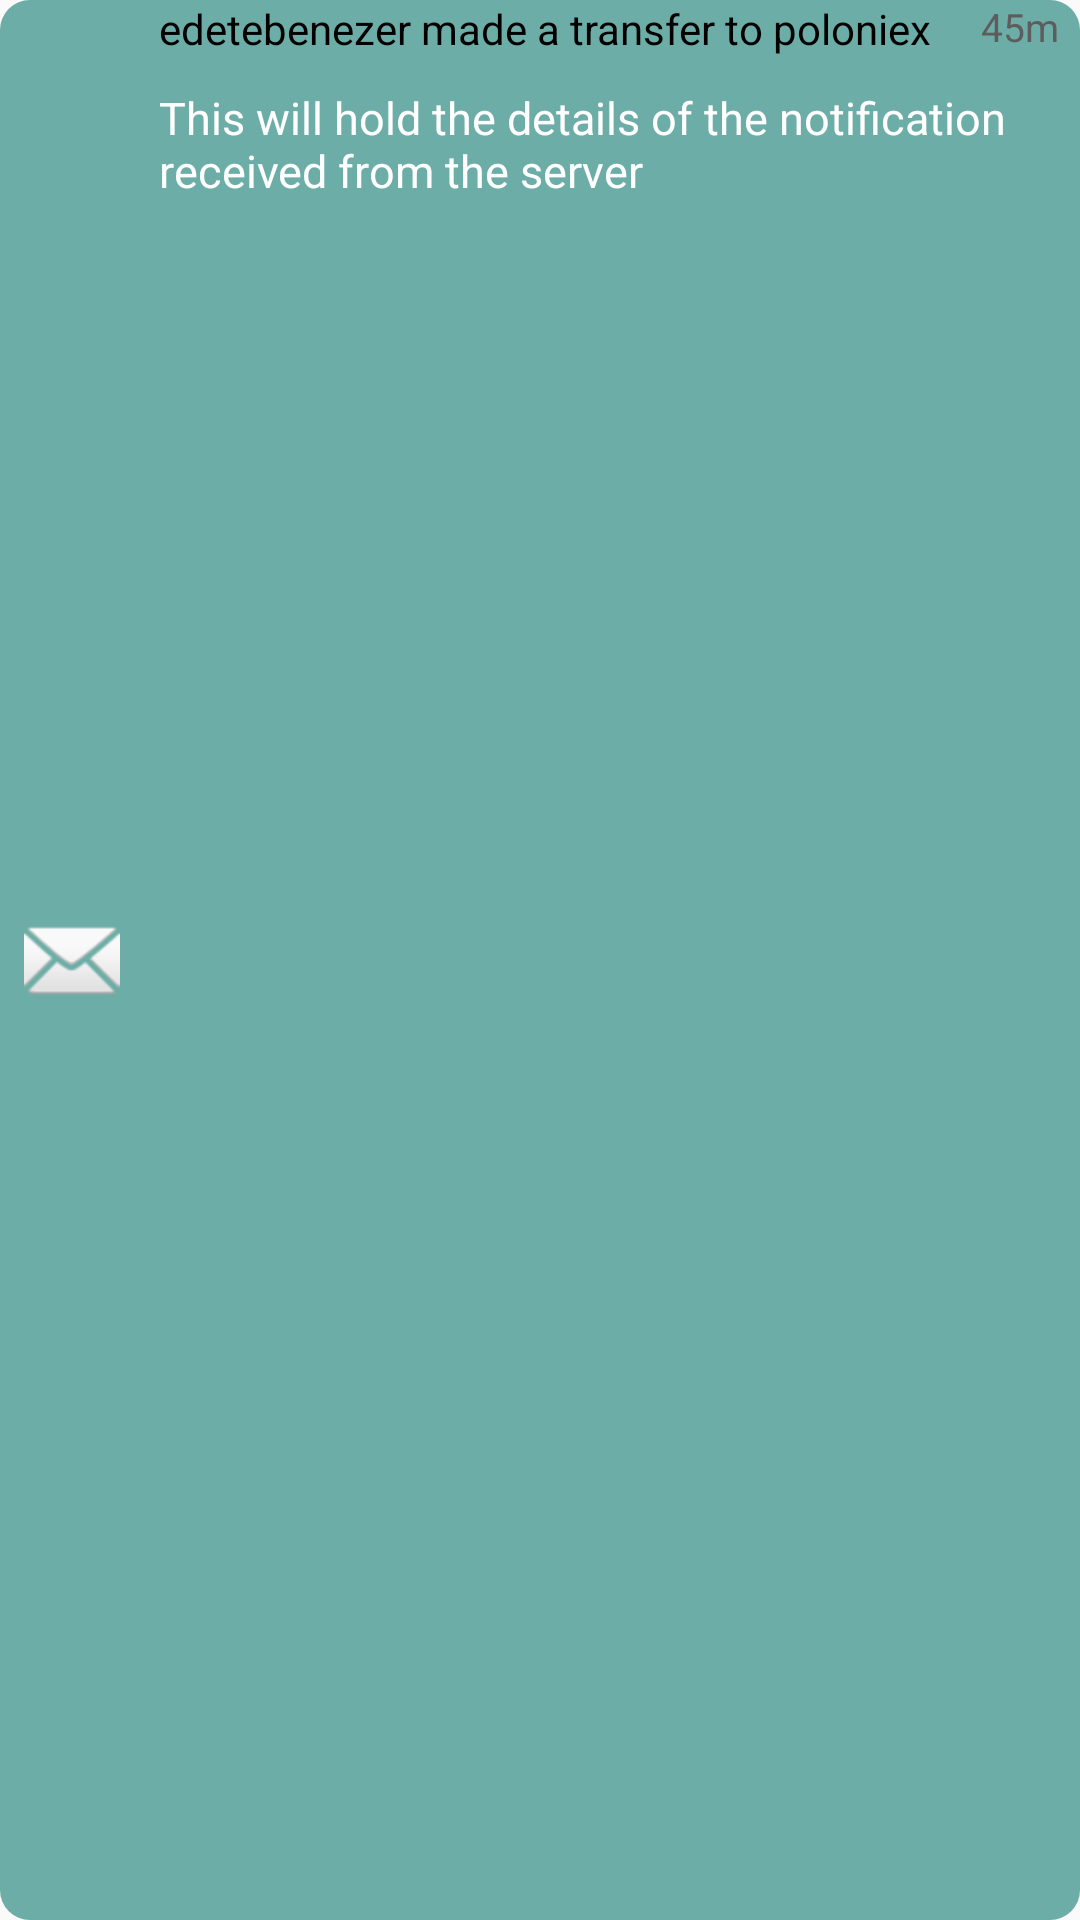

Point at icon controls on the screen. Image size 1080 × 1920, points as (x=x, y=y).
email: (x=72, y=960)
